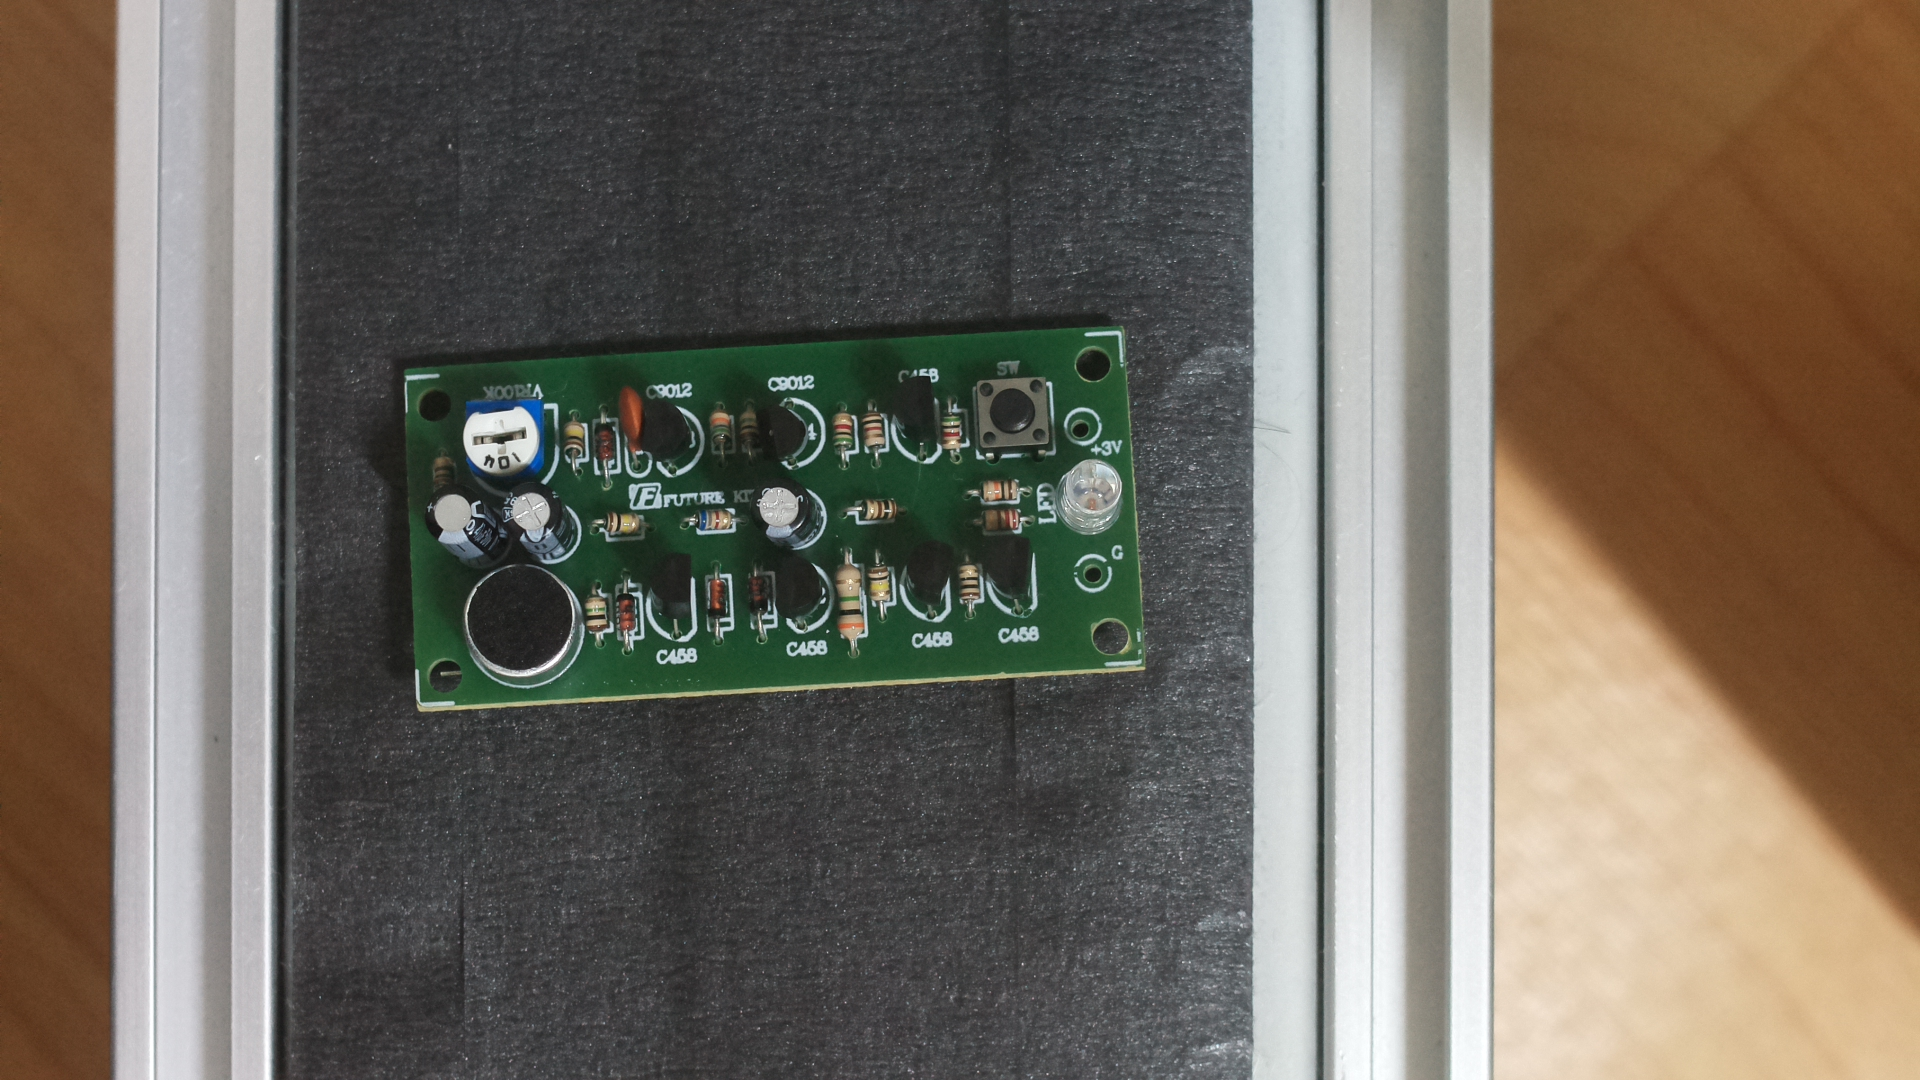A_Normal: (389, 319, 1164, 712)
